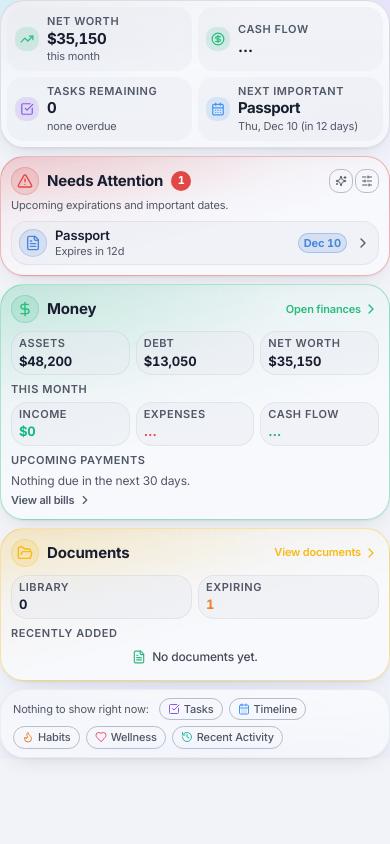
Scenario: ExecutiveBriefing › Money leads with what you own, what you owe and net worth, from the snapshot
Expected: the element with test id "exec-card-attention" is shown, left=0, top=156, right=389, bottom=276
Expected: the button with test id "exec-money-assets" shows "$48,200", left=11, top=331, right=130, bottom=375
// …and opens the Net Worth panel, in place.
Click the button with test id "exec-money-networth".
click(320, 353)  # box left=260, top=331, right=379, bottom=375
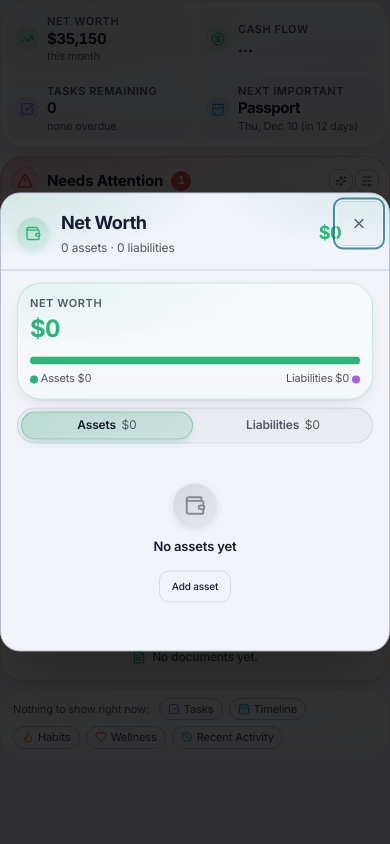
Expected: the dialog is shown, left=0, top=192, right=389, bottom=652
